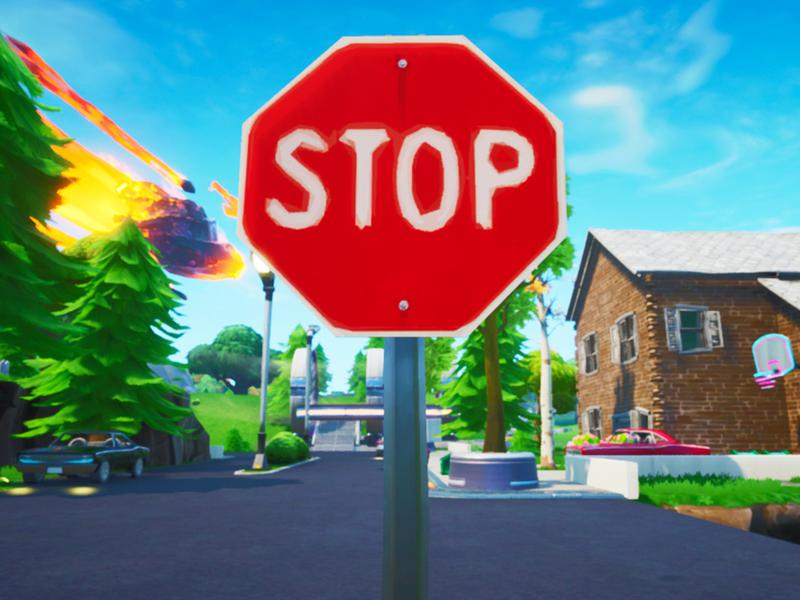stop: (236, 26, 571, 336)
